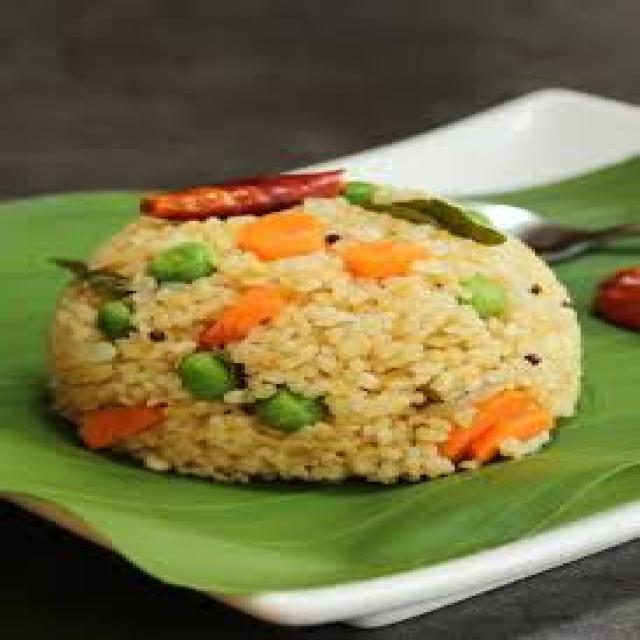UPMA: (38, 189, 577, 482)
